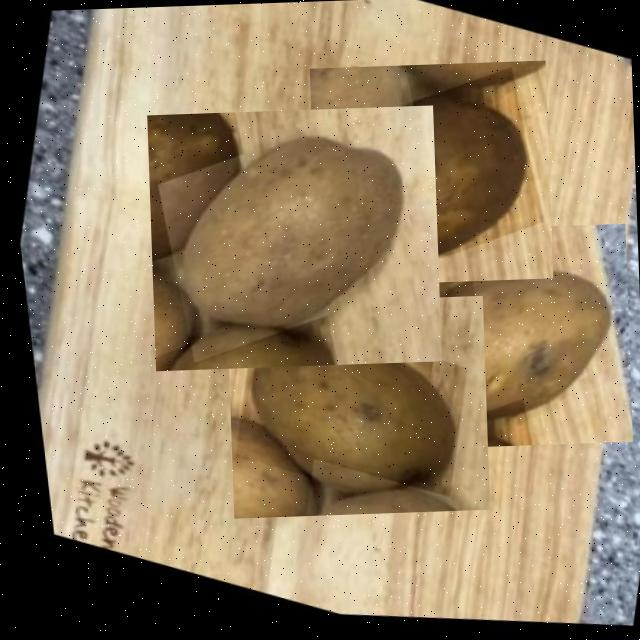Potato: (146, 104, 442, 370), (367, 222, 632, 449), (226, 294, 489, 517), (310, 59, 552, 285)
